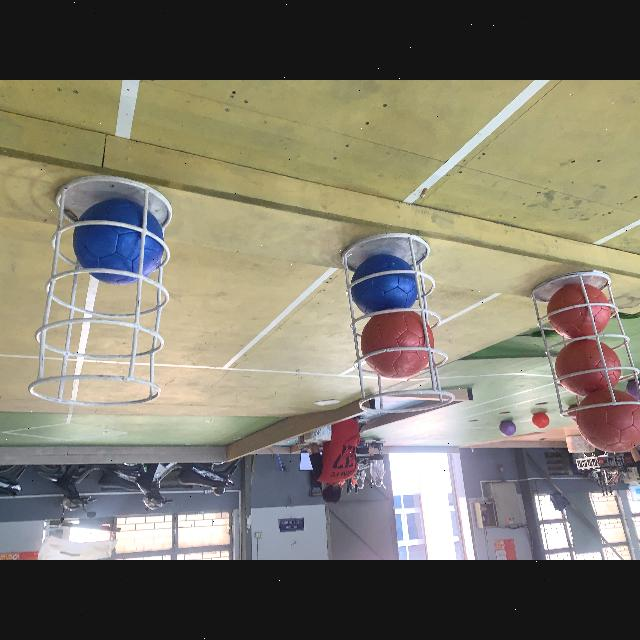B: (73, 197, 165, 285), (350, 256, 420, 312)
R: (360, 314, 434, 378), (578, 392, 640, 454), (556, 339, 622, 397), (548, 286, 608, 336)
